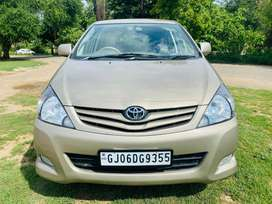GJ06DG9355: (100, 151, 171, 165)
